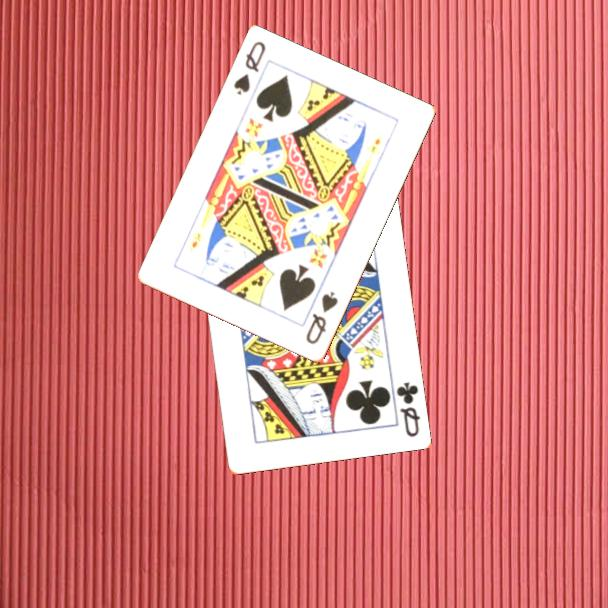c12: (392, 378, 422, 440)
s12: (230, 38, 269, 99), (303, 288, 341, 348)
